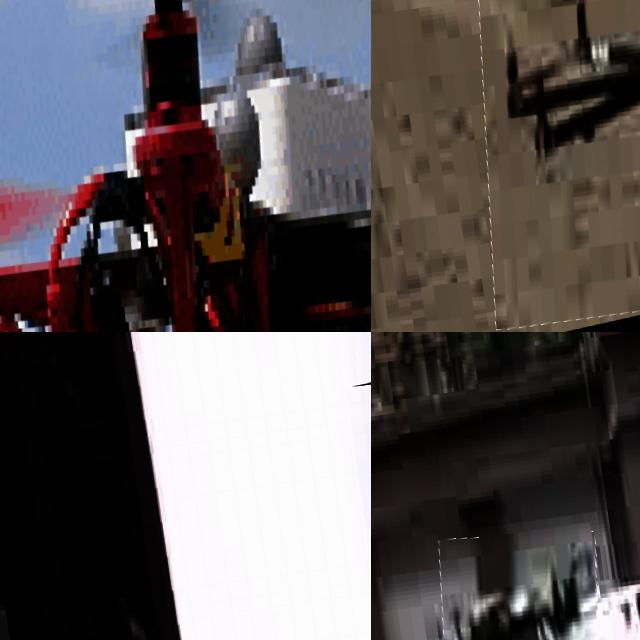0: (444, 0, 640, 332), (428, 522, 616, 640), (330, 332, 371, 387)
drone: (0, 0, 371, 332)
